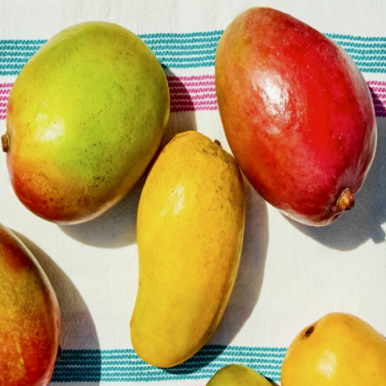mango: (202, 0, 386, 265), (0, 5, 178, 266), (122, 110, 256, 385)
